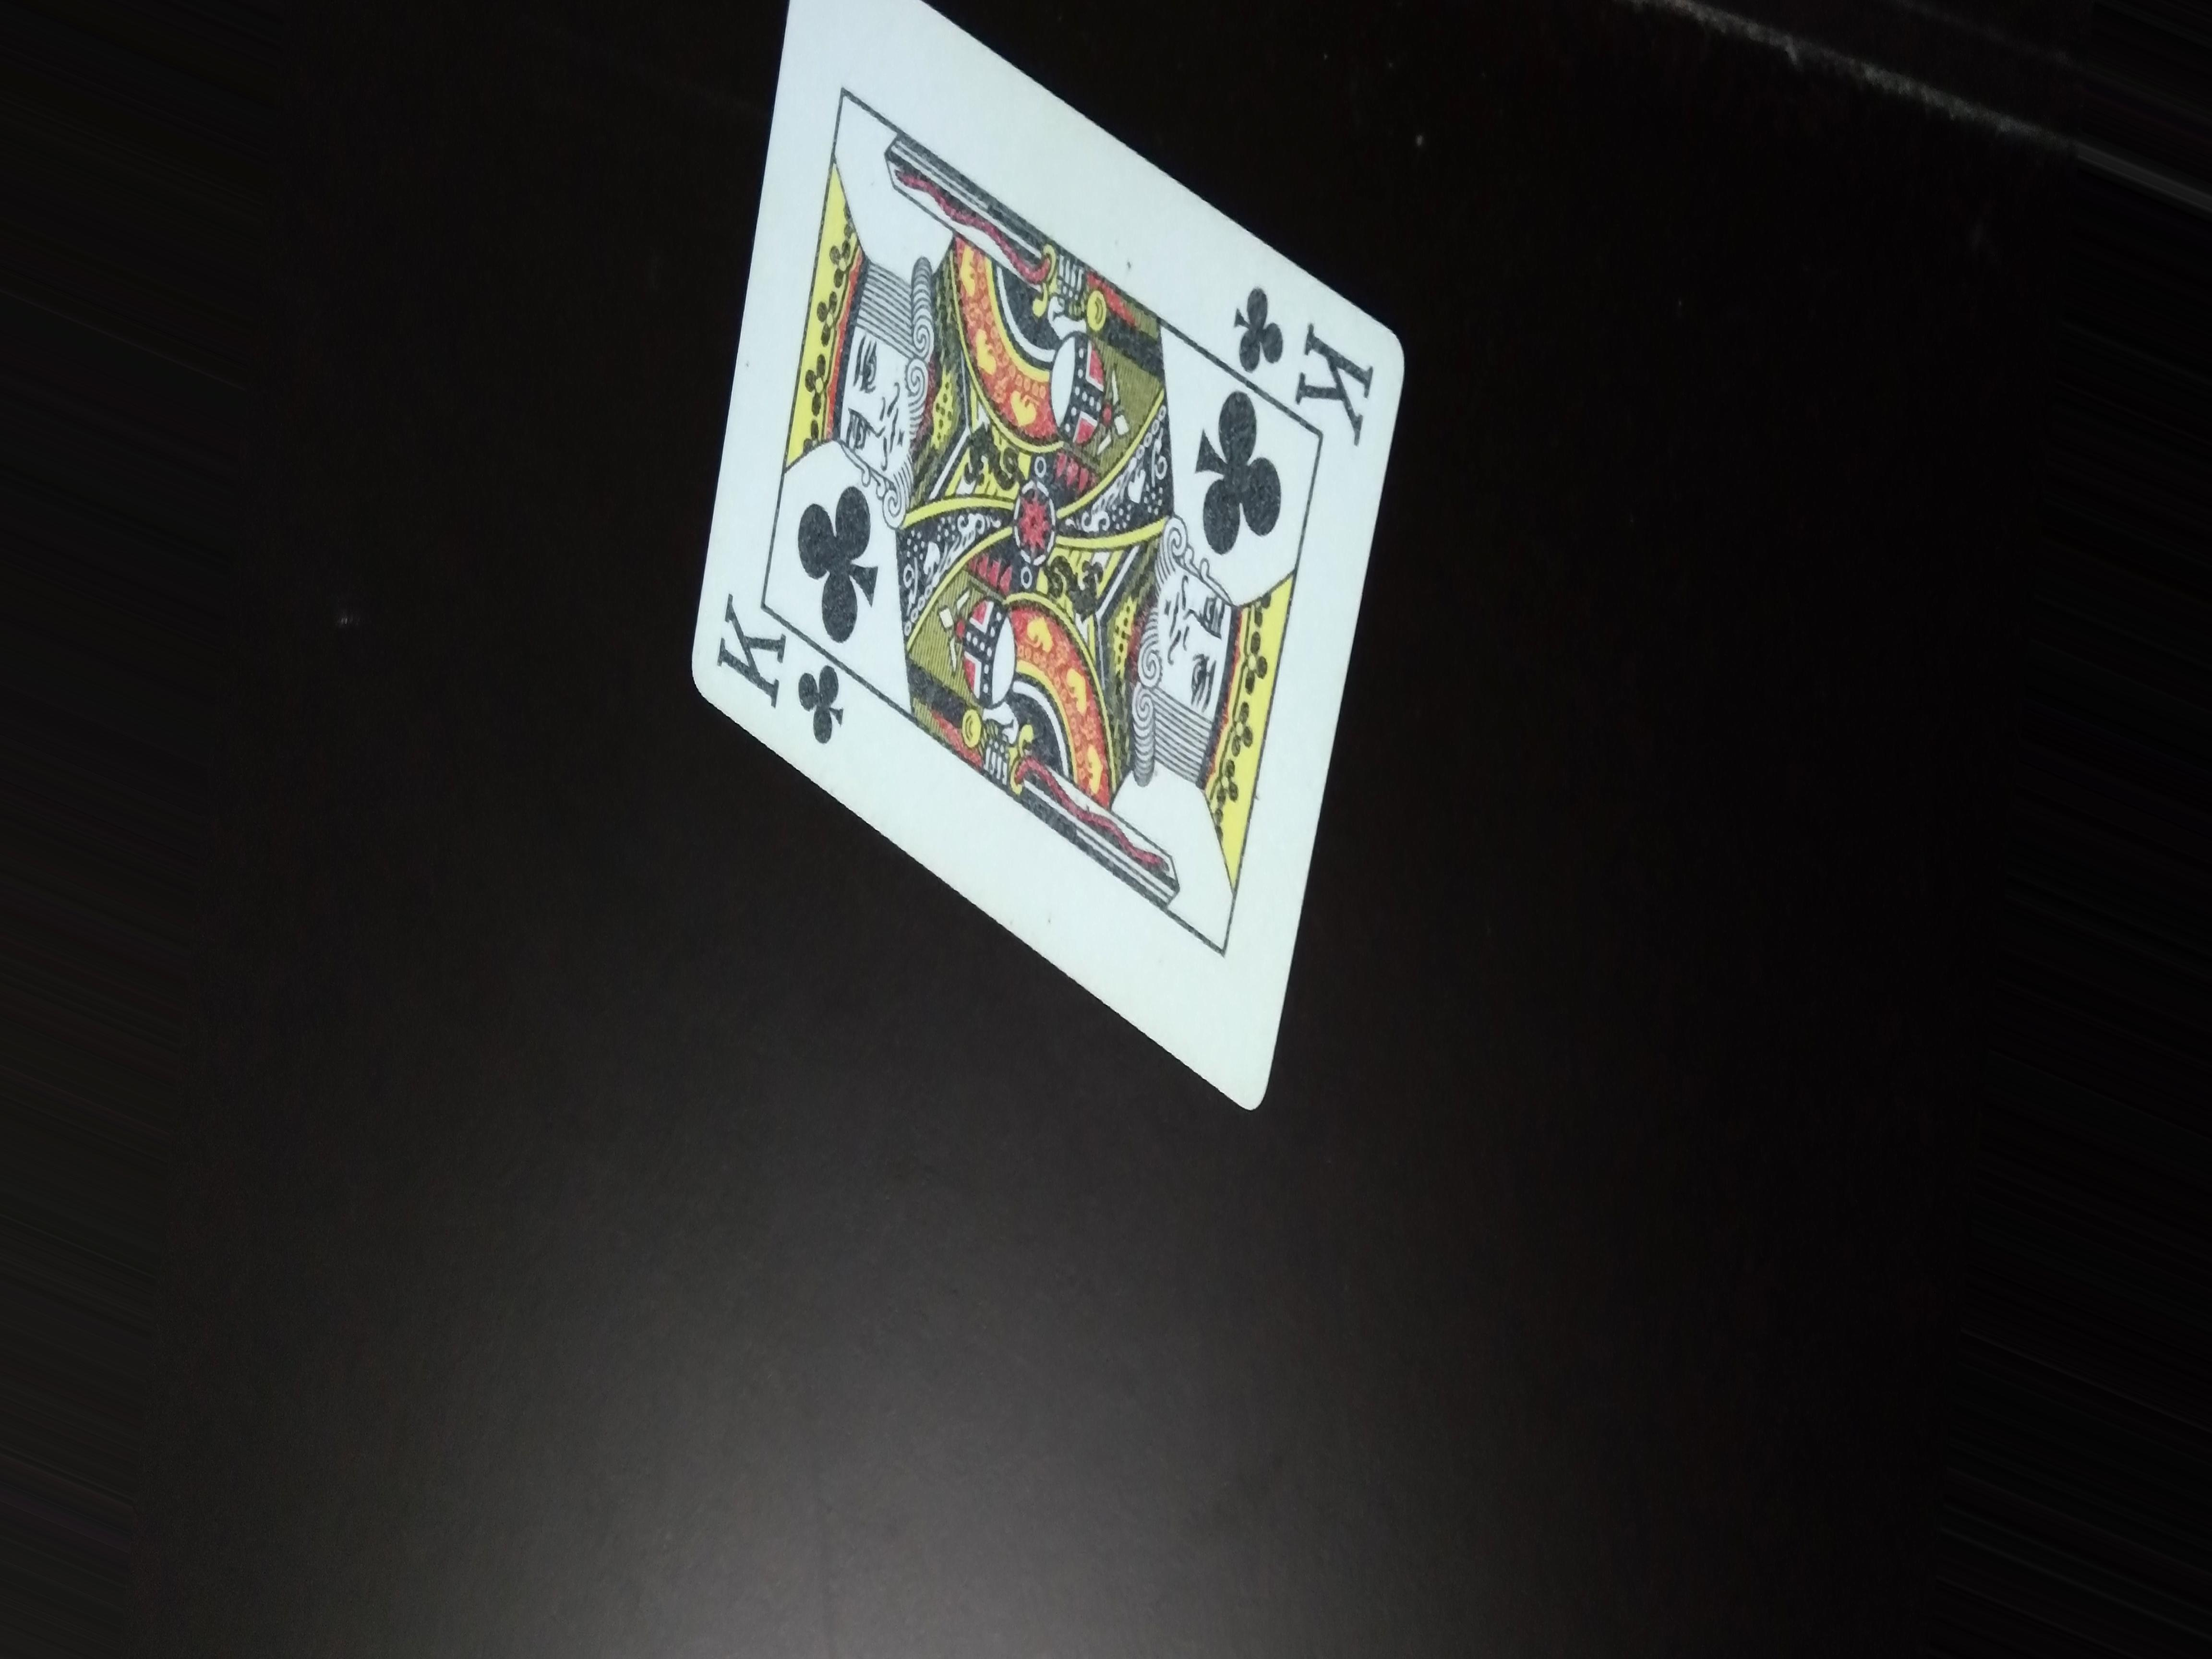KC: (709, 587, 852, 779)
